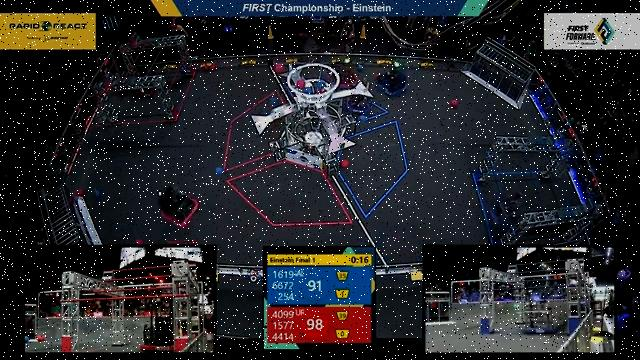Robot: (156, 177, 203, 230), (484, 191, 527, 232), (373, 56, 410, 99), (343, 73, 375, 119), (131, 59, 161, 102)
